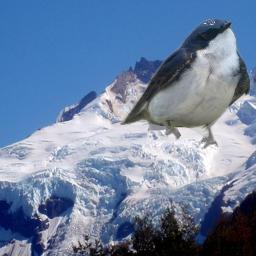Swallow: (120, 18, 251, 149)
